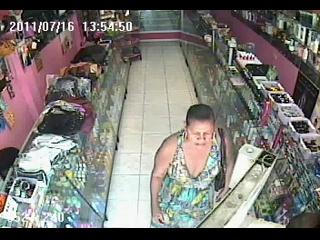Normal: (150, 103, 234, 228)
